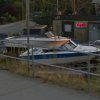Boat: (6, 28, 98, 68)
